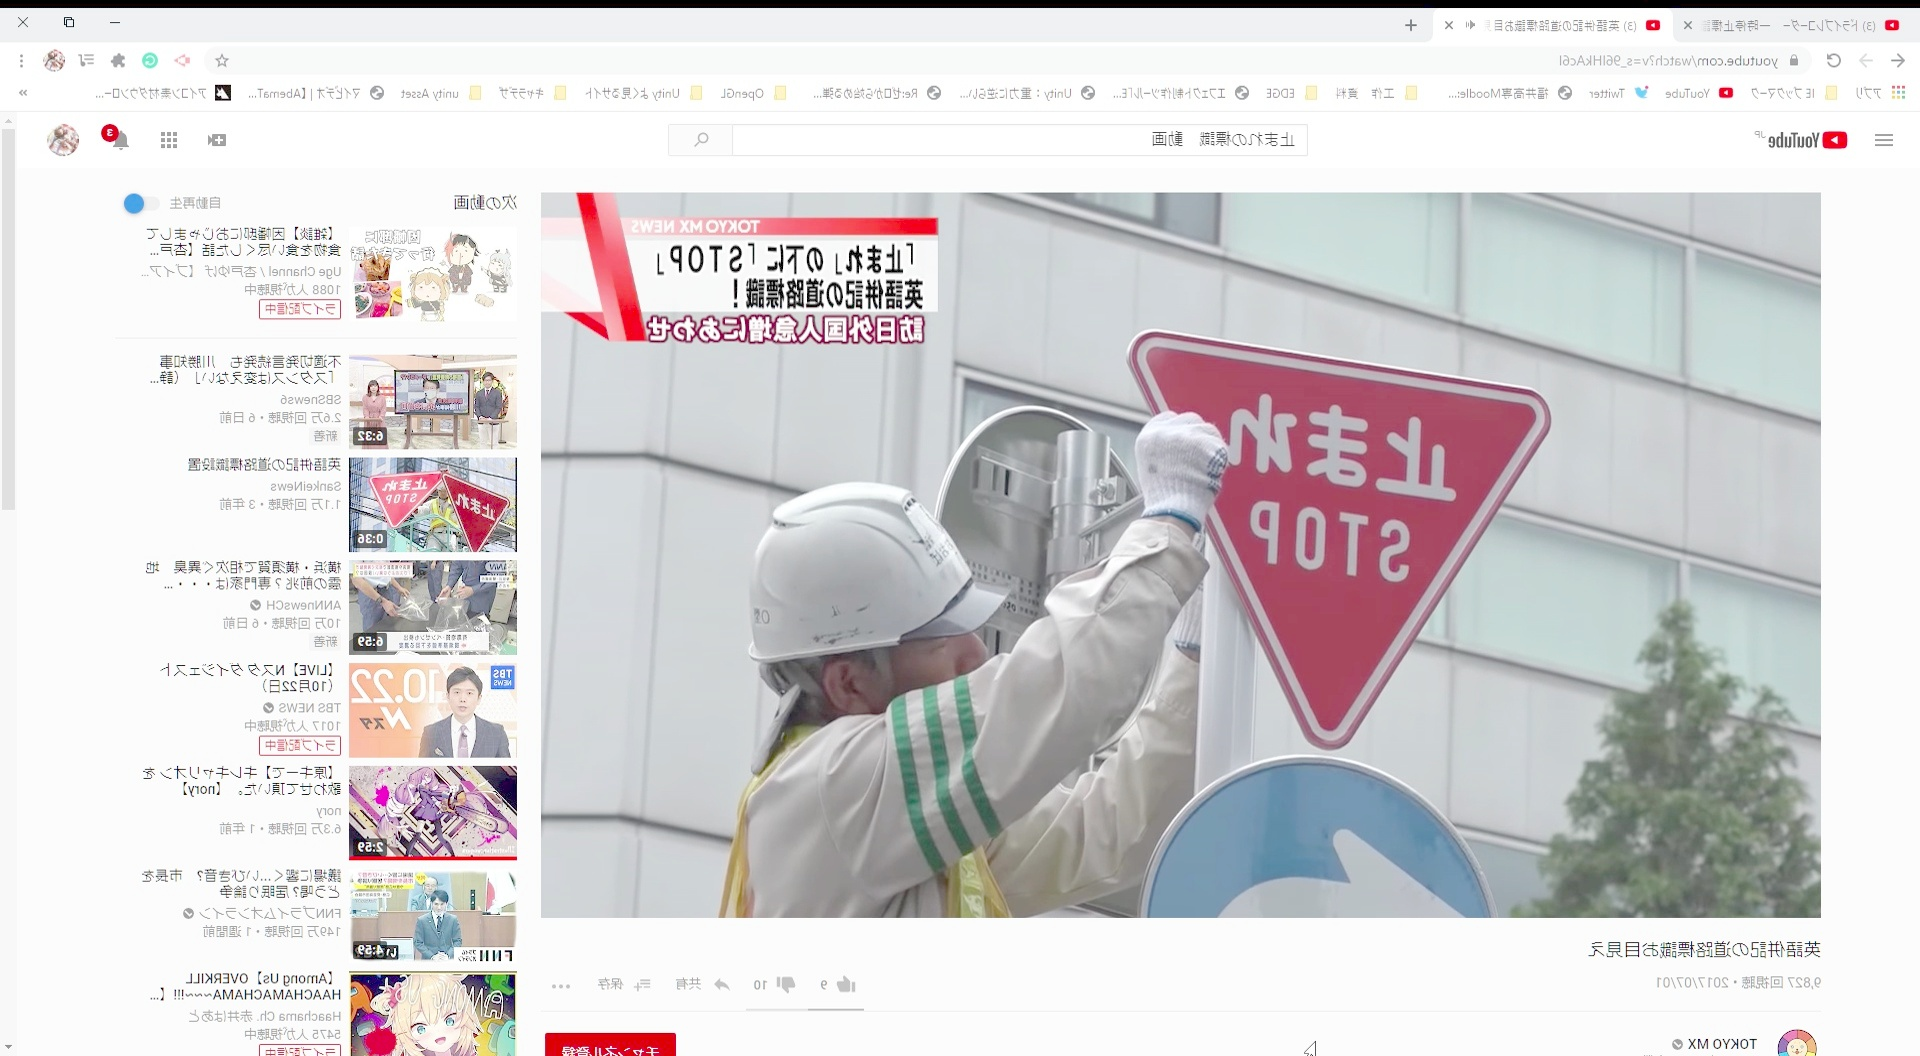Regulatory_sign_triangle: (1124, 310, 1551, 775)
